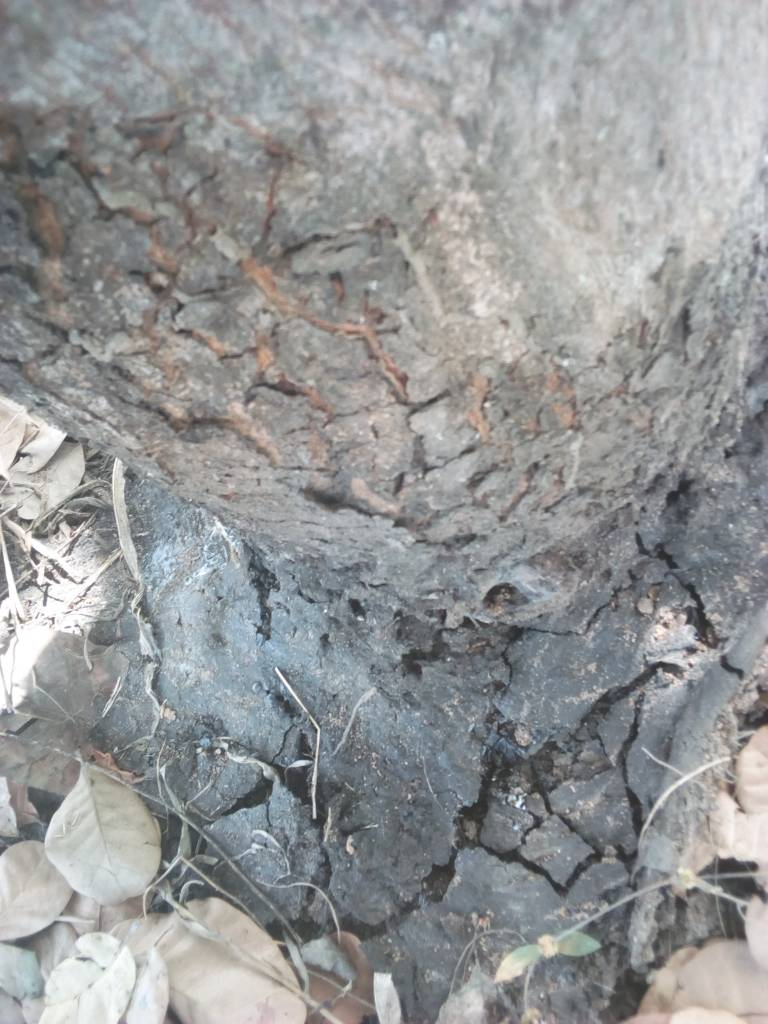Gommose: (7, 116, 621, 538), (194, 561, 697, 975)
